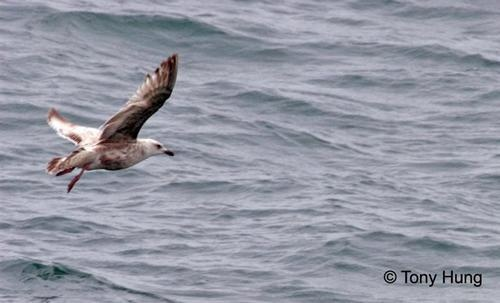bird: (41, 53, 185, 193)
